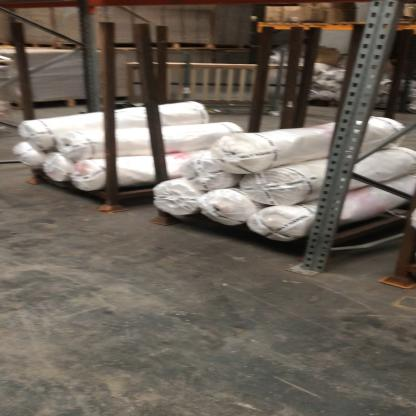vertical_damage: (288, 171, 366, 279)
